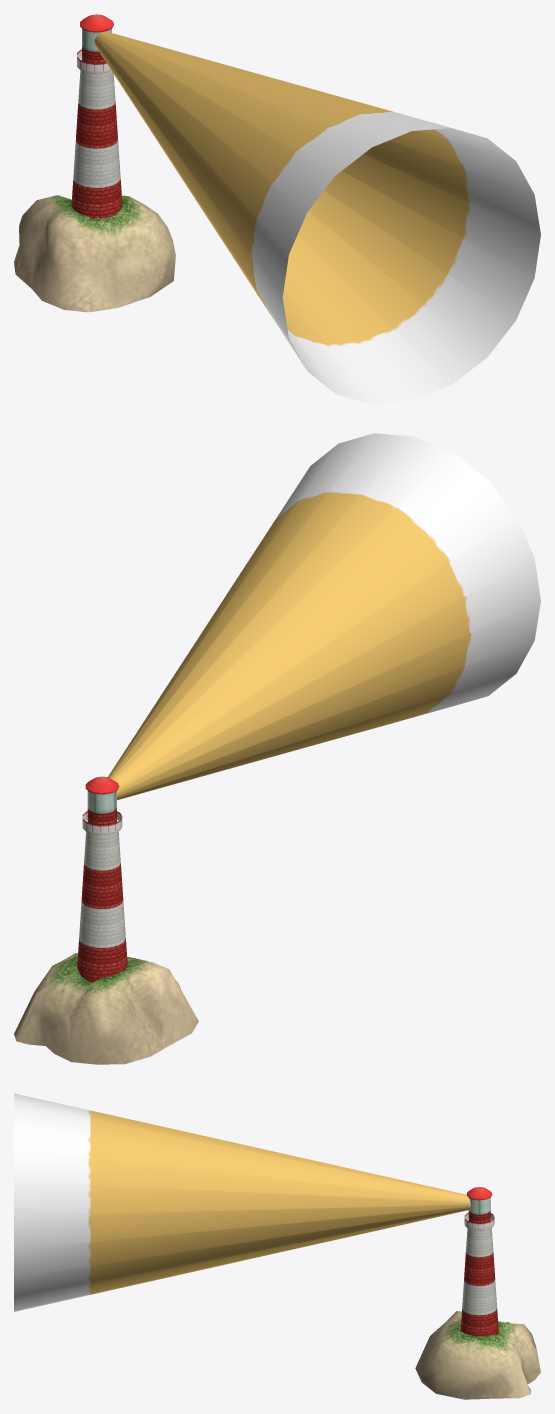
Rendered from Lighthouse.fbx.
3 views of the same model, one above another, from view 1: azimuth 30°, elevation 25°; view 2: azimuth 150°, elevation 25°; view 3: azimuth 270°, elevation 25° (orthographic). The views are drawn at different scales.
Visible parts, largest first — view 1: Light, Stone, Lighthouse; view 2: Light, Stone, Lighthouse; view 3: Light, Stone, Lighthouse.
Boxes of the visible parts, x1,y1,x2,y2 form: Light: (94, 31, 540, 404); Stone: (14, 195, 175, 312); Lighthouse: (71, 14, 122, 218); Light: (108, 433, 540, 800); Stone: (14, 953, 198, 1064); Lighthouse: (77, 776, 127, 982); Light: (14, 1093, 470, 1311); Stone: (415, 1311, 540, 1399); Lighthouse: (460, 1187, 498, 1336).
Bounding box in the file's own units: 1131 × 1554 × 2704.
3 materials, 3 textured.
